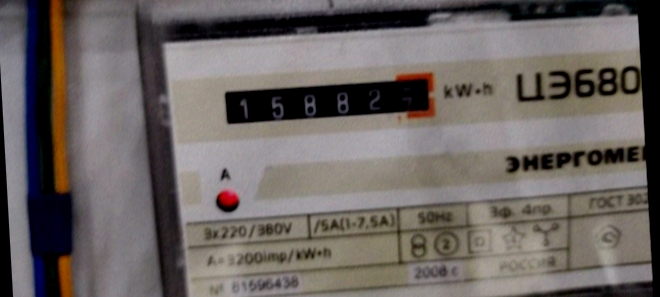1: (236, 95, 251, 120)
2: (366, 85, 382, 110)
5: (268, 92, 285, 118)
7: (399, 91, 414, 111)
8: (301, 91, 318, 118), (334, 88, 350, 114)
screen: (209, 63, 445, 139)
